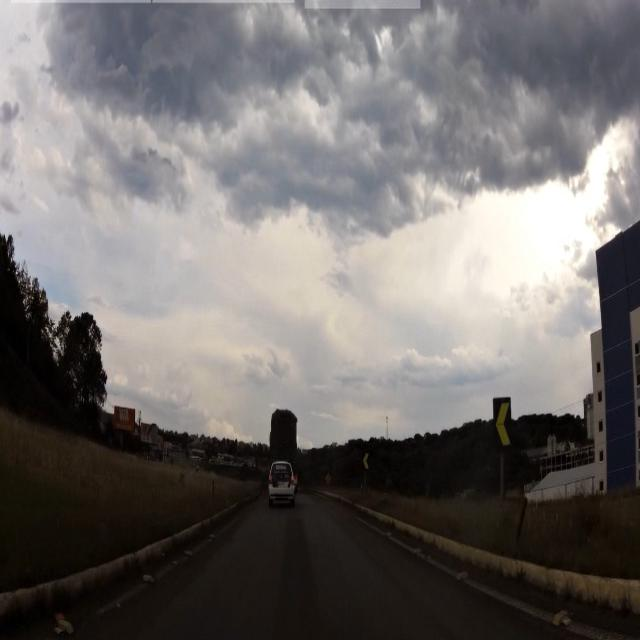Del: (491, 397, 513, 451)
